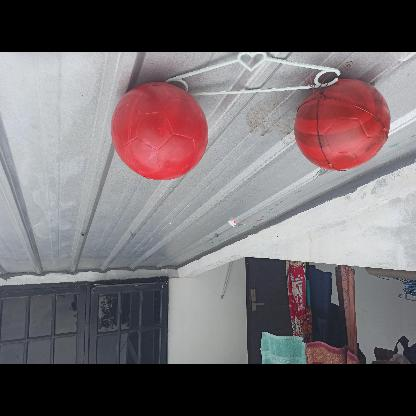red_ball: (108, 82, 206, 181), (294, 79, 388, 173)
